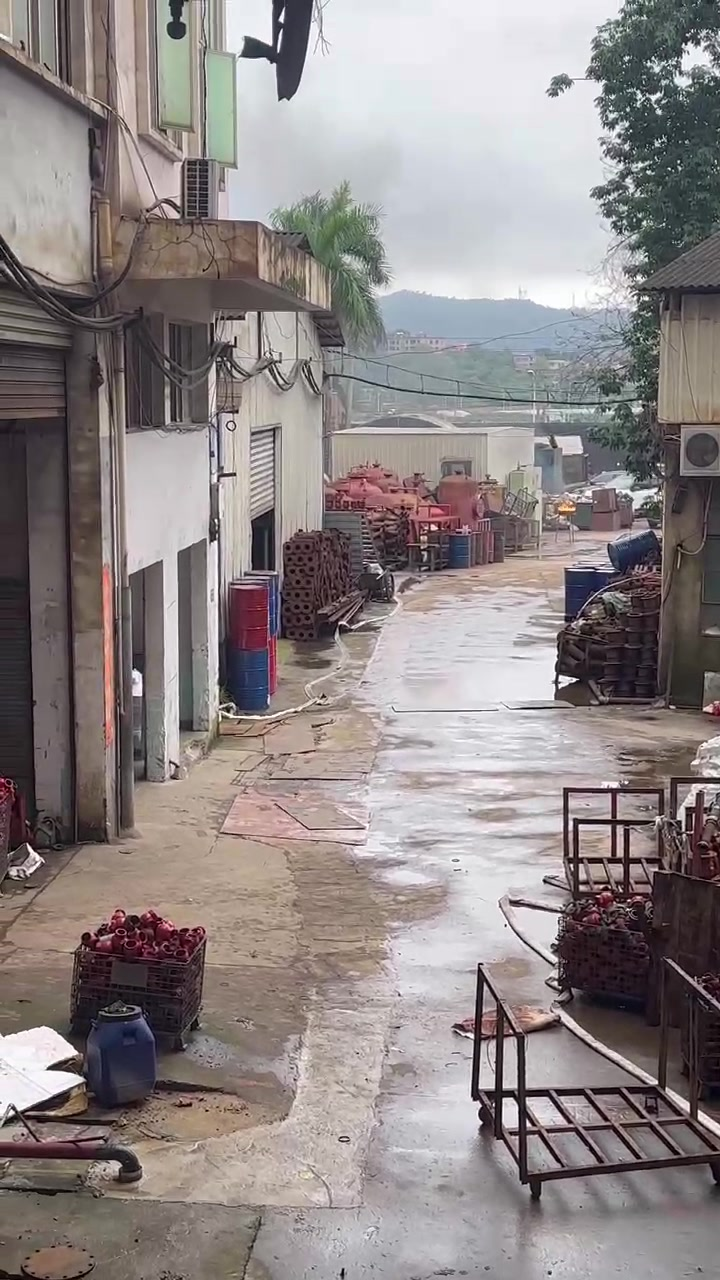fire: (557, 499, 574, 511)
